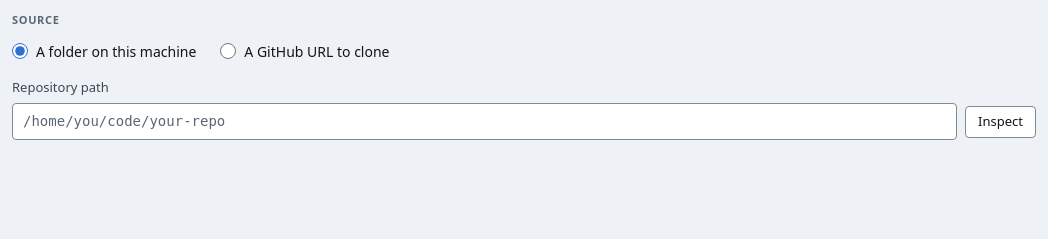
WorkspacePicker › shows a progress indicator while cloning
Click the radio button labelled "A GitHub URL to clone".
click(228, 51)  # box 220,43 -> 236,59
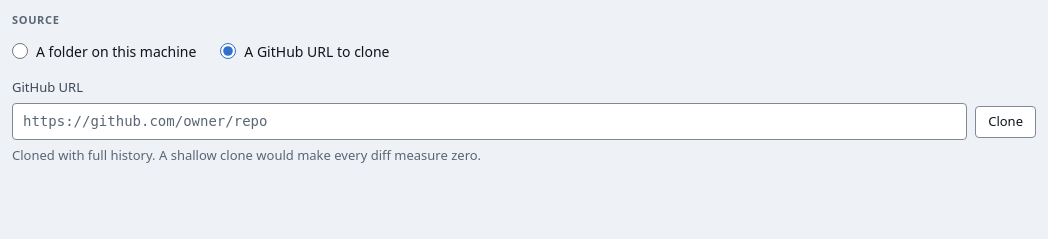
Type "https://github.com/owner/app" into the field labelled "GitHub URL".
click(490, 122); type("https://github.com/owner/app")  # box 12,103 -> 967,140
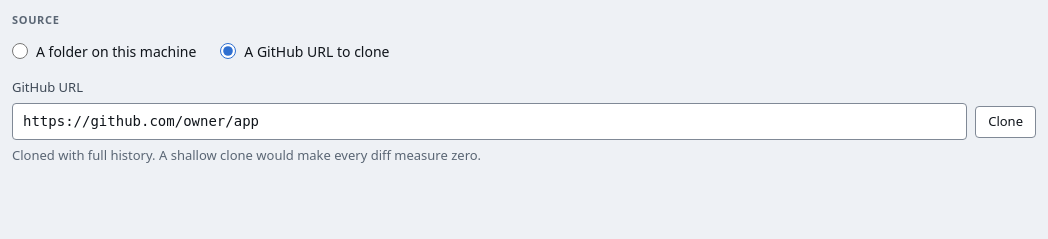
Submit the form "clone"
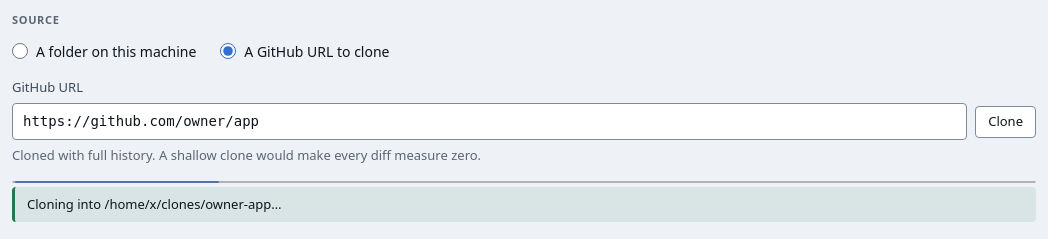
Check: the progress indicator is shown, box 12,180 -> 1036,184
